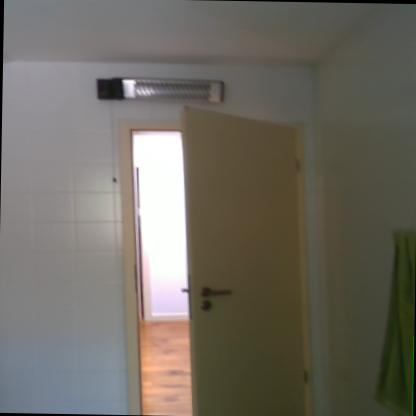semi: (111, 97, 325, 416)
